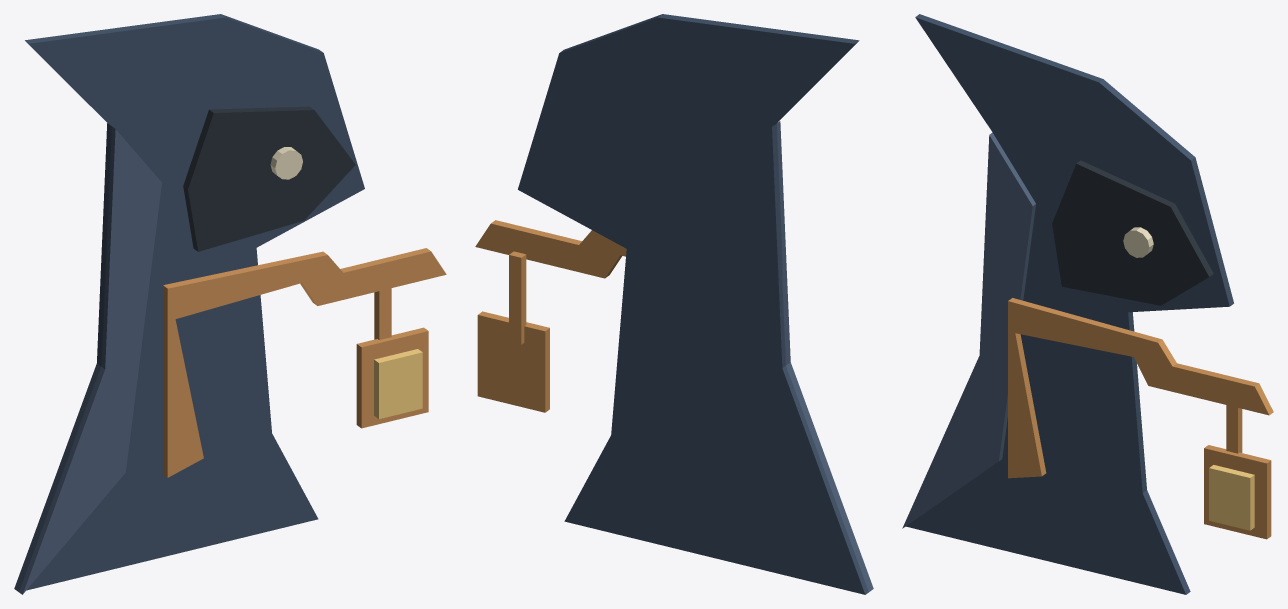
File: Traveller.fbx
3 views of the same model, side by side, from view 1: azimuth 30°, elevation 25°; view 2: azimuth 150°, elevation 25°; view 3: azimuth 330°, elevation 25° (orthographic). The views are drawn at different scales.
Visible parts, largest first — view 1: Cloak, CloakFold, Face, Scarf, LanternFrame, LanternGlow, LanternHandle, Eye; view 2: Cloak, LanternFrame, Scarf, CloakFold, LanternHandle; view 3: Cloak, CloakFold, Face, Scarf, LanternFrame, LanternGlow, LanternHandle, Eye.
Boxes of the visible parts, x1=… form: Cloak: x1=14, y1=14, x2=364, y2=591; CloakFold: x1=19, y1=126, x2=161, y2=594; Face: x1=183, y1=106, x2=355, y2=251; Scarf: x1=163, y1=248, x2=446, y2=477; LanternFrame: x1=356, y1=327, x2=428, y2=428; LanternGlow: x1=374, y1=349, x2=422, y2=418; LanternHandle: x1=374, y1=288, x2=391, y2=339; Eye: x1=270, y1=147, x2=302, y2=179; Cloak: x1=518, y1=14, x2=868, y2=594; LanternFrame: x1=477, y1=311, x2=549, y2=412; Scarf: x1=475, y1=220, x2=626, y2=278; CloakFold: x1=776, y1=121, x2=873, y2=591; LanternHandle: x1=509, y1=251, x2=526, y2=344; Cloak: x1=906, y1=14, x2=1233, y2=594; CloakFold: x1=902, y1=132, x2=1035, y2=528; Face: x1=1052, y1=160, x2=1213, y2=305; Scarf: x1=1008, y1=298, x2=1273, y2=478; LanternFrame: x1=1204, y1=445, x2=1271, y2=539; LanternGlow: x1=1209, y1=465, x2=1254, y2=530; LanternHandle: x1=1226, y1=405, x2=1242, y2=453; Eye: x1=1123, y1=227, x2=1153, y2=257.
Size of the model in its own units: 0.79 by 1.01 by 0.082.
